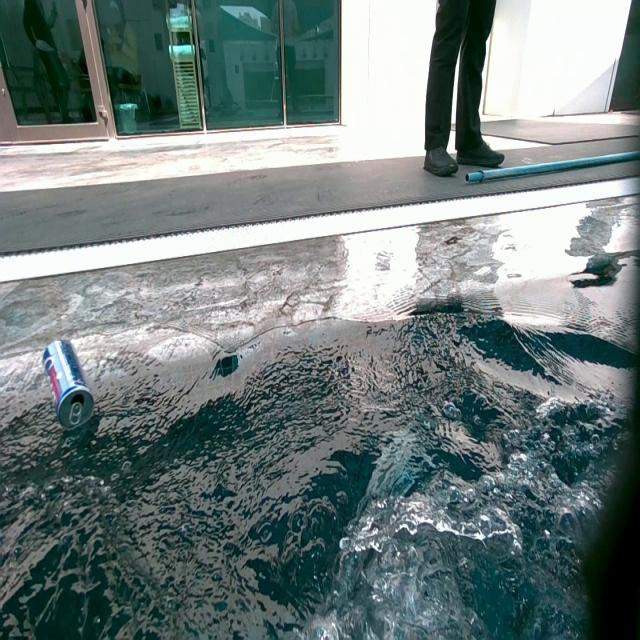Cans: (41, 337, 97, 427)
